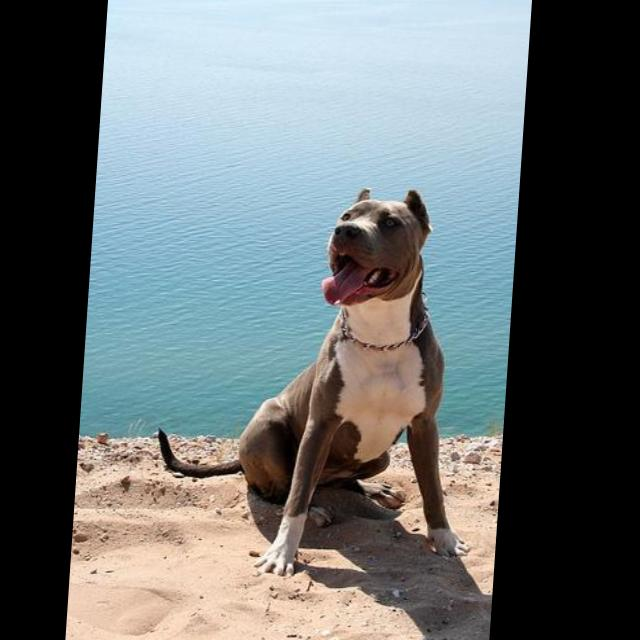amstaff: (155, 187, 499, 578)
